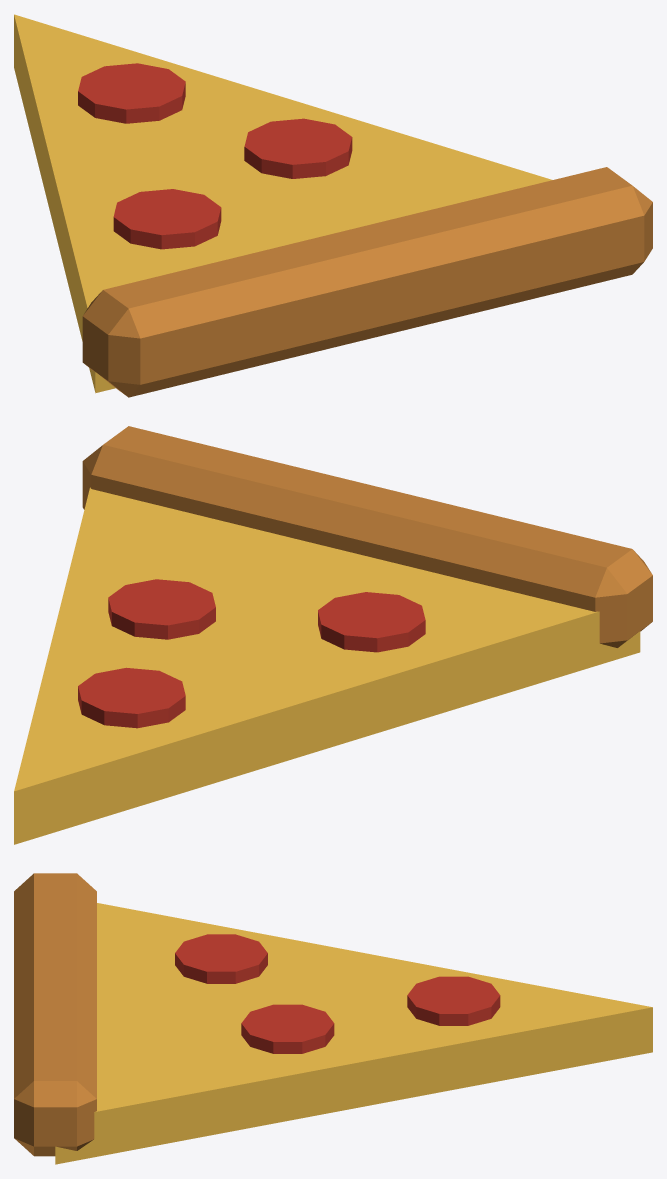
File: pizza_slice.fbx
3 views of the same model, one above another, from view 1: azimuth 30°, elevation 25°; view 2: azimuth 150°, elevation 25°; view 3: azimuth 270°, elevation 25° (orthographic). The views are drawn at different scales.
Visible parts, largest first — view 1: pizza_slice; view 2: pizza_slice; view 3: pizza_slice.
Part boxes in pixels (left/top/right/bottom): pizza_slice: left=14, top=14, right=652, bottom=397; pizza_slice: left=14, top=426, right=652, bottom=844; pizza_slice: left=14, top=873, right=652, bottom=1164.
Bounding box in the file's own units: 0.16 × 0.025 × 0.1925.
